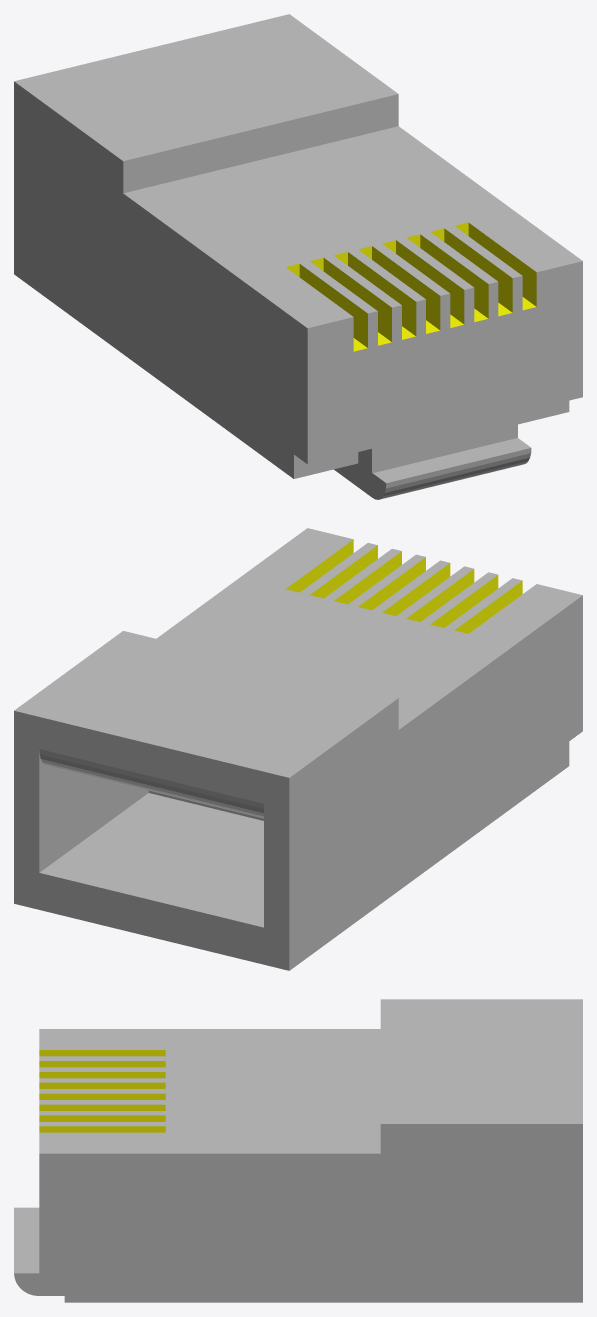
File: ethernet_plug.obj
The picture shows the model from 3 angles, top to bottom: view 1: azimuth 30°, elevation 25°; view 2: azimuth 150°, elevation 25°; view 3: azimuth 270°, elevation 25°; orthographic projection. The views are drawn at different scales.
Visible parts, largest first — view 1: ethernet_plug; view 2: ethernet_plug; view 3: ethernet_plug.
Boxes of the visible parts, x1=… form: ethernet_plug: x1=14, y1=14, x2=582, y2=499; ethernet_plug: x1=14, y1=528, x2=582, y2=970; ethernet_plug: x1=14, y1=999, x2=582, y2=1302.
Size of the model in its own units: 0.0104 by 0.00788 by 0.0202.
